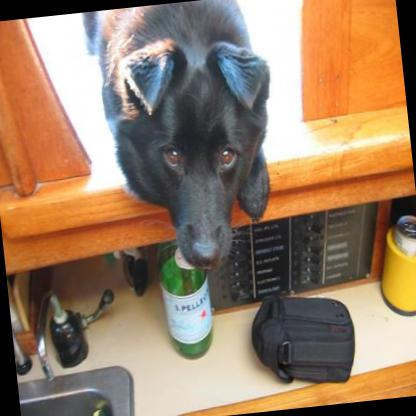schipperke: (94, 0, 305, 275)
